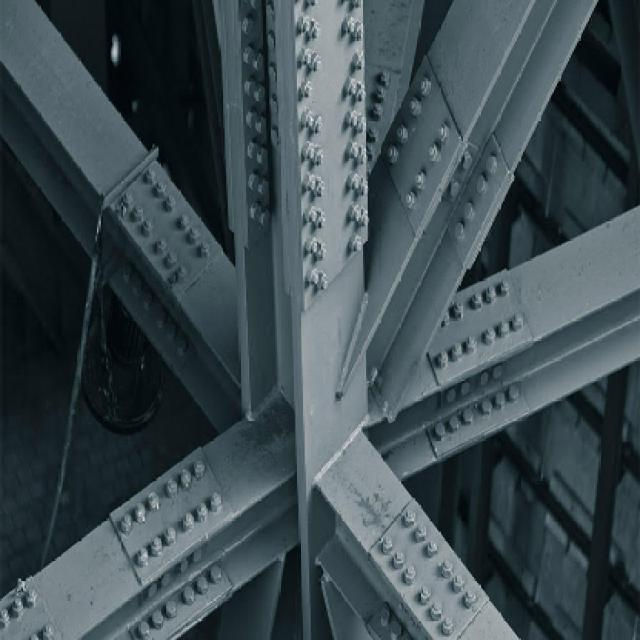Regular bolt: (145, 533, 172, 558), (207, 490, 231, 516), (460, 334, 485, 357), (8, 595, 29, 621), (416, 74, 437, 98), (131, 545, 152, 567), (197, 499, 215, 524), (24, 587, 45, 608), (426, 141, 446, 163), (484, 286, 504, 307), (482, 329, 503, 349), (416, 584, 436, 605), (164, 246, 183, 268), (166, 476, 182, 502), (408, 94, 425, 118), (432, 353, 453, 372), (438, 556, 456, 578), (178, 466, 196, 488), (471, 290, 490, 310), (174, 265, 193, 285), (427, 600, 447, 619), (172, 210, 190, 231), (130, 203, 148, 224), (153, 235, 171, 256), (145, 492, 163, 513), (133, 502, 151, 523), (166, 523, 179, 551), (450, 342, 469, 361), (143, 166, 161, 186), (119, 190, 137, 210), (183, 512, 200, 533), (151, 179, 169, 198), (382, 535, 400, 554), (452, 300, 469, 320), (371, 88, 391, 105), (1, 611, 15, 635), (404, 564, 422, 582), (497, 279, 516, 296), (512, 311, 531, 328), (424, 539, 443, 556), (415, 171, 432, 190), (402, 192, 419, 211), (377, 69, 393, 89), (366, 128, 387, 143), (495, 320, 512, 338), (121, 516, 138, 534), (194, 240, 213, 256), (414, 524, 430, 543), (438, 124, 453, 144), (396, 127, 411, 147), (387, 149, 404, 166), (160, 194, 178, 210), (185, 225, 201, 243), (449, 574, 467, 590), (42, 622, 58, 640), (463, 591, 482, 606), (140, 219, 156, 236), (405, 509, 422, 525), (394, 553, 408, 571), (197, 457, 209, 478), (442, 619, 456, 636), (360, 146, 375, 159), (373, 104, 385, 120)
